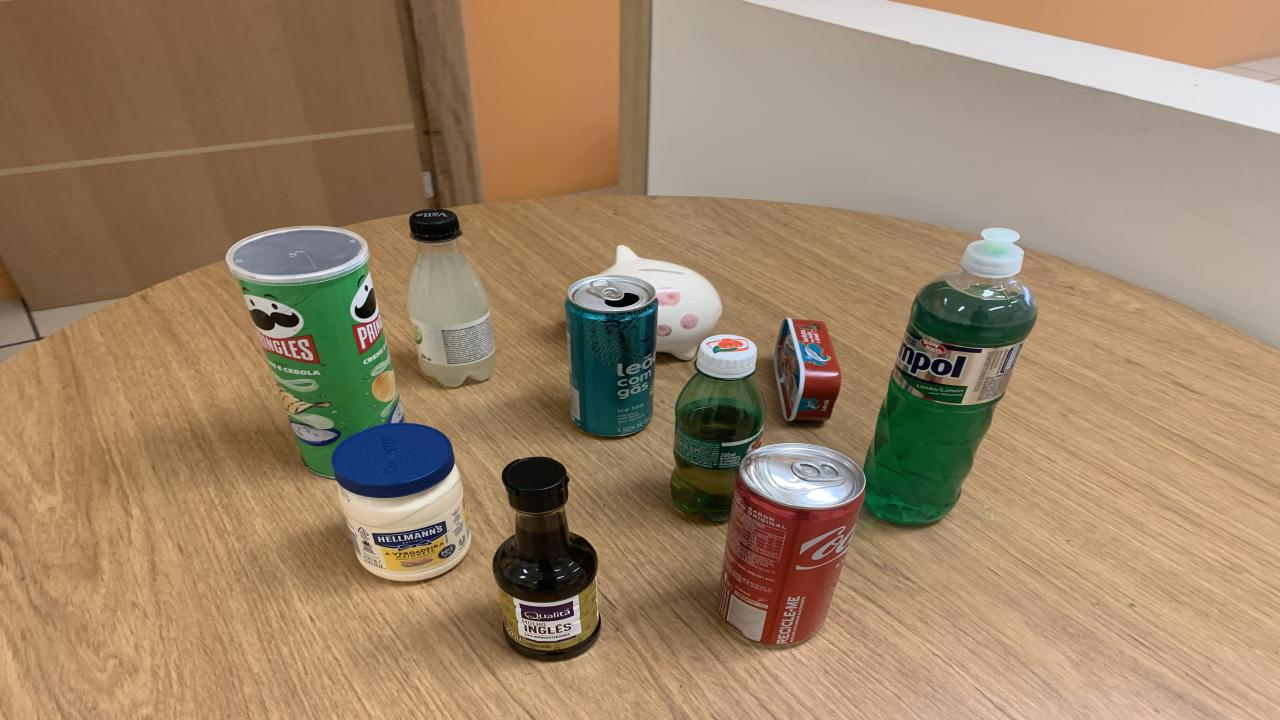Coke-Drinks: (718, 442, 865, 645)
Detergent-Cleanup_Items: (865, 229, 1038, 525)
English_Sauce-Pantry_Items: (492, 458, 600, 660)
Guarana-Drinks: (670, 334, 765, 523)
Mayonnaise-Pantry_Items: (332, 424, 470, 581)
Pig_Safe-Miscellaneous: (610, 246, 722, 360)
Pringles-Snacks: (225, 227, 402, 476)
Soda-Drinks: (408, 208, 498, 388)
Tea-Drinks: (565, 274, 658, 437)
Tuna_Can-Pantry_Items: (775, 319, 840, 422)
